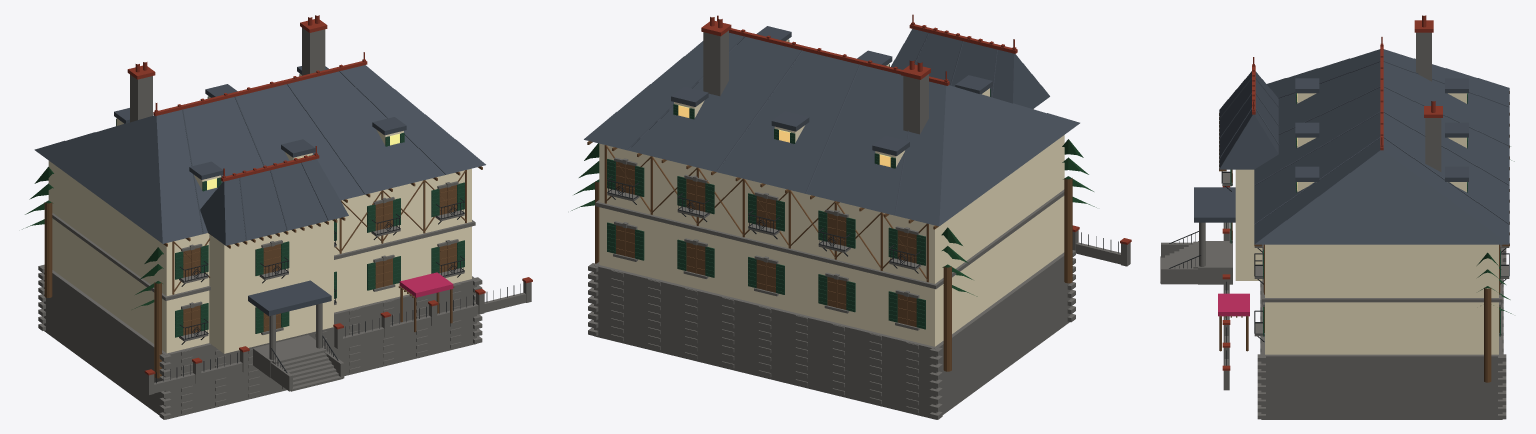
The model's file is fv_bt_05_dinh_nguyen_huu_hao_nam_phuong_palace.glb.
3 views of the same model, side by side, from view 1: azimuth 30°, elevation 25°; view 2: azimuth 150°, elevation 25°; view 3: azimuth 270°, elevation 25° (orthographic). The views are drawn at different scales.
Visible parts, largest first — view 1: marseille_corrugated_roof_tiles, granite_foundation_and_stairs, stucco_facade_and_dormers, colombage_timber_and_eaves, pine_green_louvered_shutters, ridge_cresting_and_chimneys, wrought_iron_balconies_3d, bougainvillea_pergola_clusters, pine_trees_and_garden_hedges; view 2: marseille_corrugated_roof_tiles, granite_foundation_and_stairs, stucco_facade_and_dormers, colombage_timber_and_eaves, pine_green_louvered_shutters, ridge_cresting_and_chimneys, pine_trees_and_garden_hedges, wrought_iron_balconies_3d; view 3: marseille_corrugated_roof_tiles, stucco_facade_and_dormers, granite_foundation_and_stairs, ridge_cresting_and_chimneys, colombage_timber_and_eaves, bougainvillea_pergola_clusters, wrought_iron_balconies_3d.
Boxes of the visible parts, x1,y1,x2,y2 form: marseille_corrugated_roof_tiles: [34, 65, 485, 316]; granite_foundation_and_stairs: [38, 28, 531, 419]; stucco_facade_and_dormers: [48, 73, 471, 353]; colombage_timber_and_eaves: [44, 166, 482, 378]; pine_green_louvered_shutters: [116, 74, 464, 337]; ridge_cresting_and_chimneys: [127, 15, 532, 375]; wrought_iron_balconies_3d: [156, 198, 520, 383]; bougainvillea_pergola_clusters: [399, 272, 453, 297]; pine_trees_and_garden_hedges: [22, 167, 163, 309]; marseille_corrugated_roof_tiles: [584, 26, 1079, 226]; granite_foundation_and_stairs: [588, 30, 1130, 419]; stucco_facade_and_dormers: [599, 39, 1064, 346]; colombage_timber_and_eaves: [587, 141, 1072, 371]; pine_green_louvered_shutters: [607, 40, 990, 329]; ridge_cresting_and_chimneys: [701, 14, 1131, 244]; pine_trees_and_garden_hedges: [571, 139, 1096, 296]; wrought_iron_balconies_3d: [607, 176, 1118, 273]; marseille_corrugated_roof_tiles: [1194, 49, 1509, 244]; stucco_facade_and_dormers: [1235, 93, 1498, 354]; granite_foundation_and_stairs: [1160, 32, 1509, 419]; ridge_cresting_and_chimneys: [1222, 15, 1442, 370]; colombage_timber_and_eaves: [1219, 91, 1509, 382]; bougainvillea_pergola_clusters: [1218, 293, 1249, 316]; wrought_iron_balconies_3d: [1169, 171, 1509, 365].
Bounding box in the file's own units: 29.72 × 20.93 × 24.42.
